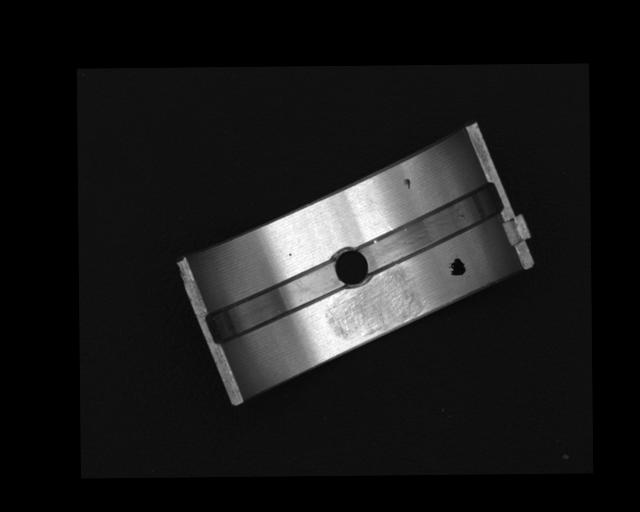blot: (448, 257, 466, 276)
bruise: (402, 176, 412, 190), (288, 252, 292, 257)
gap: (358, 182, 505, 275), (202, 260, 342, 346)
hole: (329, 244, 374, 289)
nick: (371, 199, 393, 230)
scratch: (322, 269, 426, 340)
